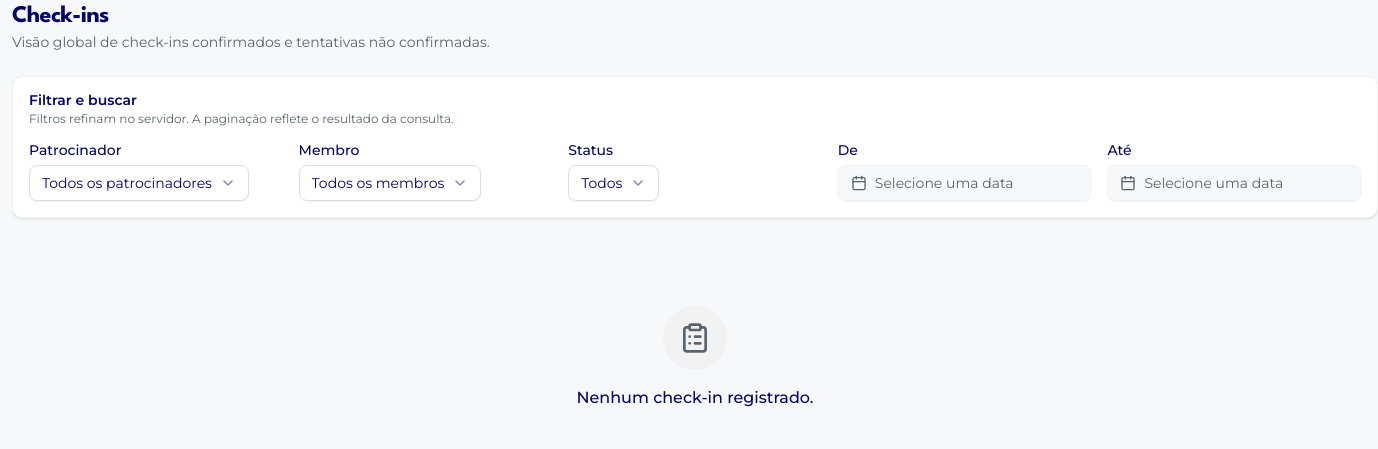
Test: AdminCheckinListPage › exibe estado vazio com filtros sem resultado
This screenshot has width=1378, height=449.
Click the dropdown named "Status".
click(614, 183)  # box [568,165,659,201]
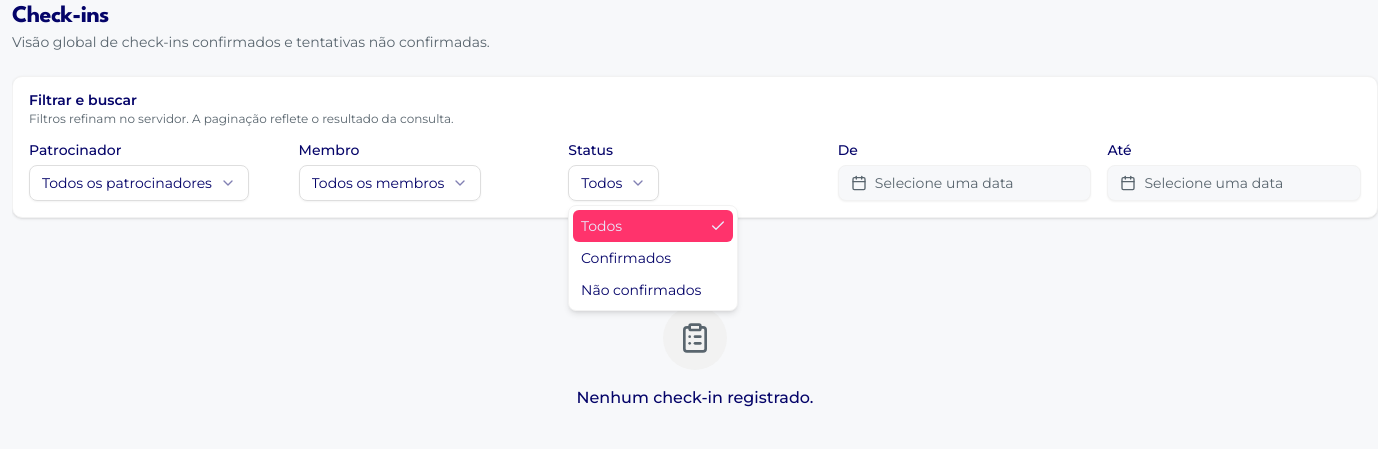
Click the option "Confirmados".
click(626, 258)  # box [581,249,671,267]
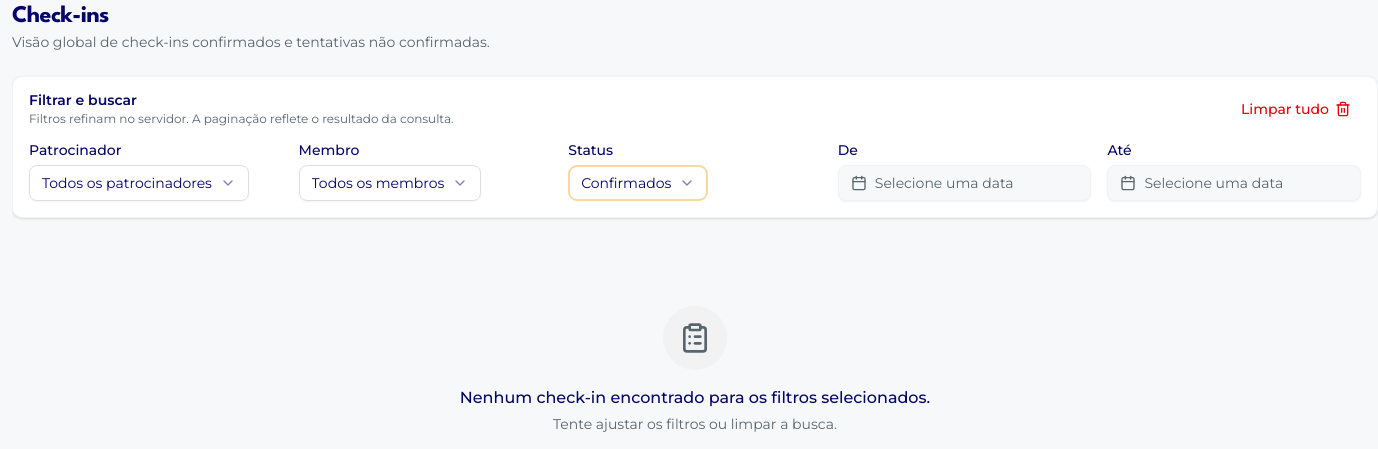
Expected: the text "Nenhum check-in encontrado para os filtros selecionados." is shown, [460,386,930,410]
